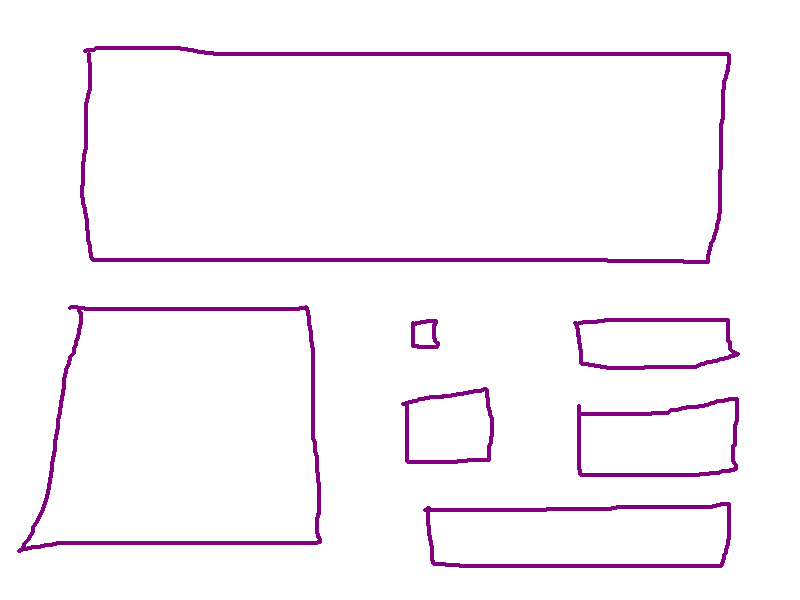rect: (76, 38, 736, 269), (14, 295, 326, 552), (421, 499, 738, 575), (565, 394, 745, 481), (569, 312, 740, 373), (396, 381, 498, 470), (407, 314, 443, 355)
